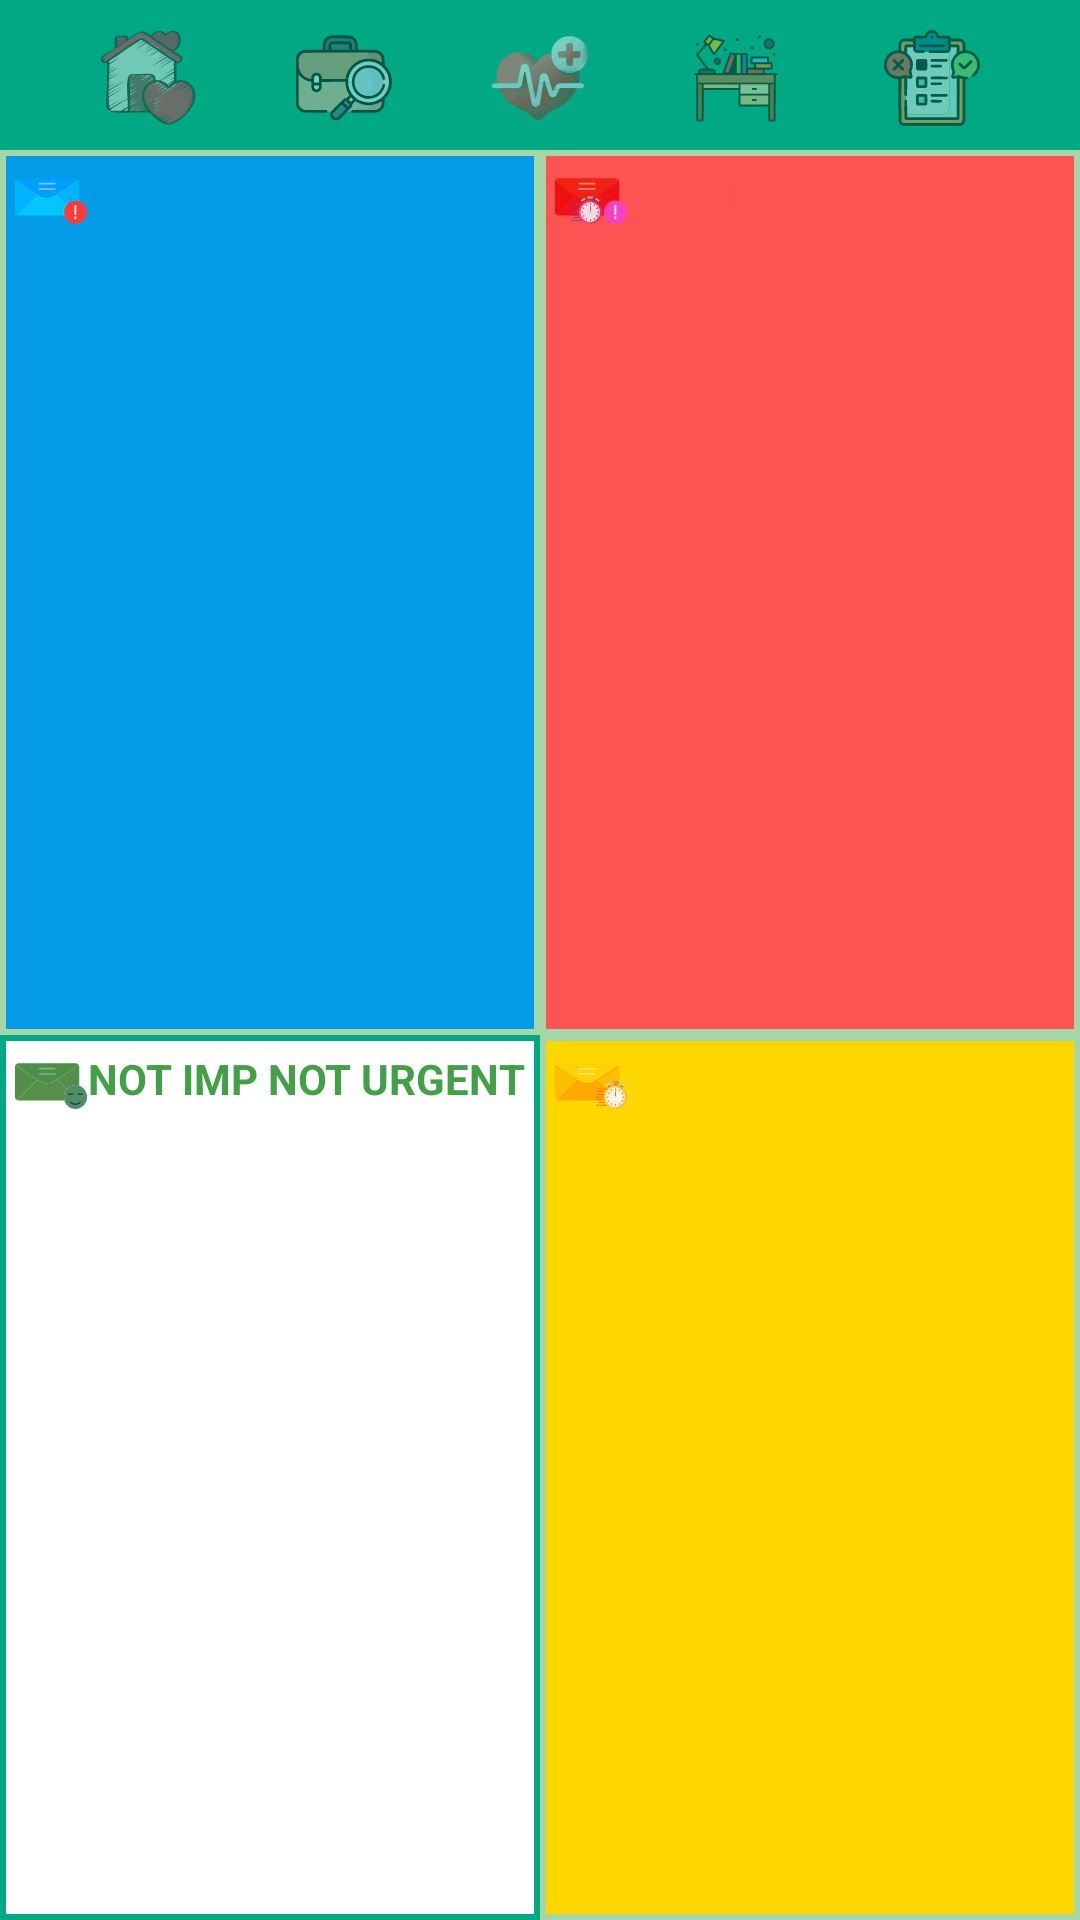

Screen size 1080 x 1920. Icon name, then its center in pixels as point (x, y):
relax urg: point (51, 1086)
urgent urg: point (591, 1087)
